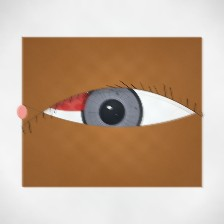hemorrhage_spot: (32, 67, 118, 136)
